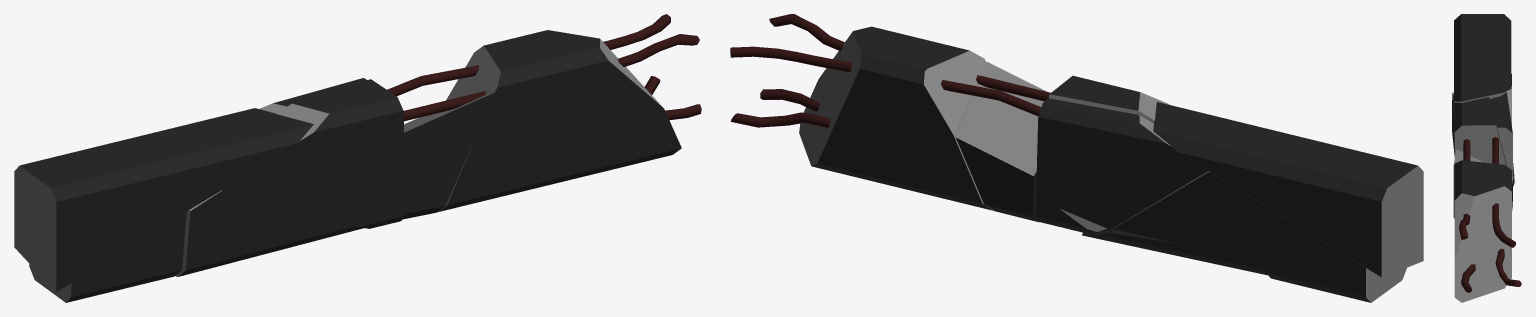
File: P_PoutreCassé1.FBX
3 renders of one model, left to right at view 1: azimuth 30°, elevation 25°; view 2: azimuth 150°, elevation 25°; view 3: azimuth 270°, elevation 25°, orthographic. The views are drawn at different scales.
Visible parts, largest first — view 1: Box009_Part_4; view 2: Box009_Part_4; view 3: Box009_Part_4.
Boxes of the visible parts, left/top/right/bottom form: Box009_Part_4: left=14, top=14, right=701, bottom=302; Box009_Part_4: left=730, top=14, right=1423, bottom=302; Box009_Part_4: left=1452, top=14, right=1521, bottom=302.
Bounding box in the file's own units: 329 × 60.37 × 44.45.
